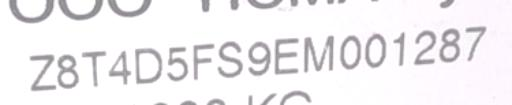letter: (301, 34, 335, 73), (132, 46, 164, 85), (79, 49, 109, 88), (27, 53, 57, 92), (272, 36, 300, 75), (216, 40, 244, 79), (106, 48, 134, 87), (462, 23, 488, 62), (54, 52, 80, 90), (412, 28, 438, 65), (246, 39, 272, 76), (192, 41, 216, 80), (362, 33, 388, 68), (437, 26, 461, 63), (338, 32, 362, 69), (165, 45, 189, 82), (390, 30, 408, 67)
